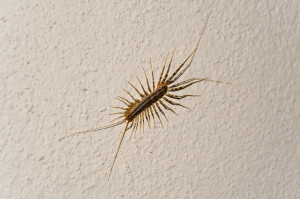centipede: (108, 47, 203, 140)
